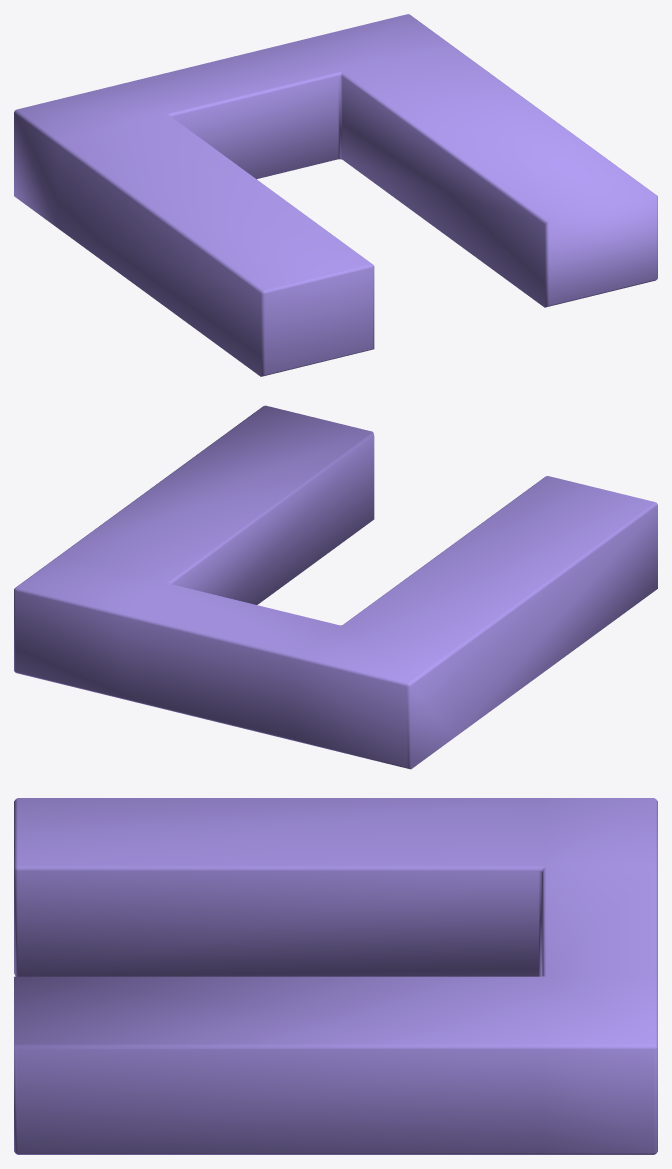
Rendered from mesa.FBX.
3 renders of one model, top to bottom at view 1: azimuth 30°, elevation 25°; view 2: azimuth 150°, elevation 25°; view 3: azimuth 270°, elevation 25°, orthographic. The views are drawn at different scales.
Visible parts, largest first — view 1: mesa_low; view 2: mesa_low; view 3: mesa_low.
Part boxes in pixels (box(x1,y1,x2,y2)): mesa_low: box(14, 14, 657, 376); mesa_low: box(14, 405, 657, 769); mesa_low: box(14, 798, 657, 1154).
Size of the model in its own units: 91.39 by 18.91 by 99.64.
